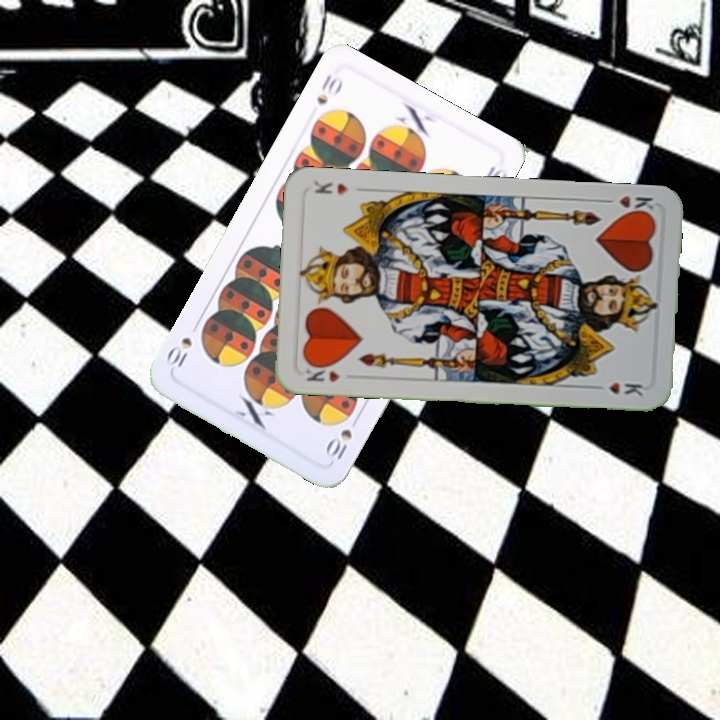HK: (598, 191, 657, 219), (302, 359, 343, 385)
S10: (321, 411, 363, 463), (312, 70, 346, 108)
